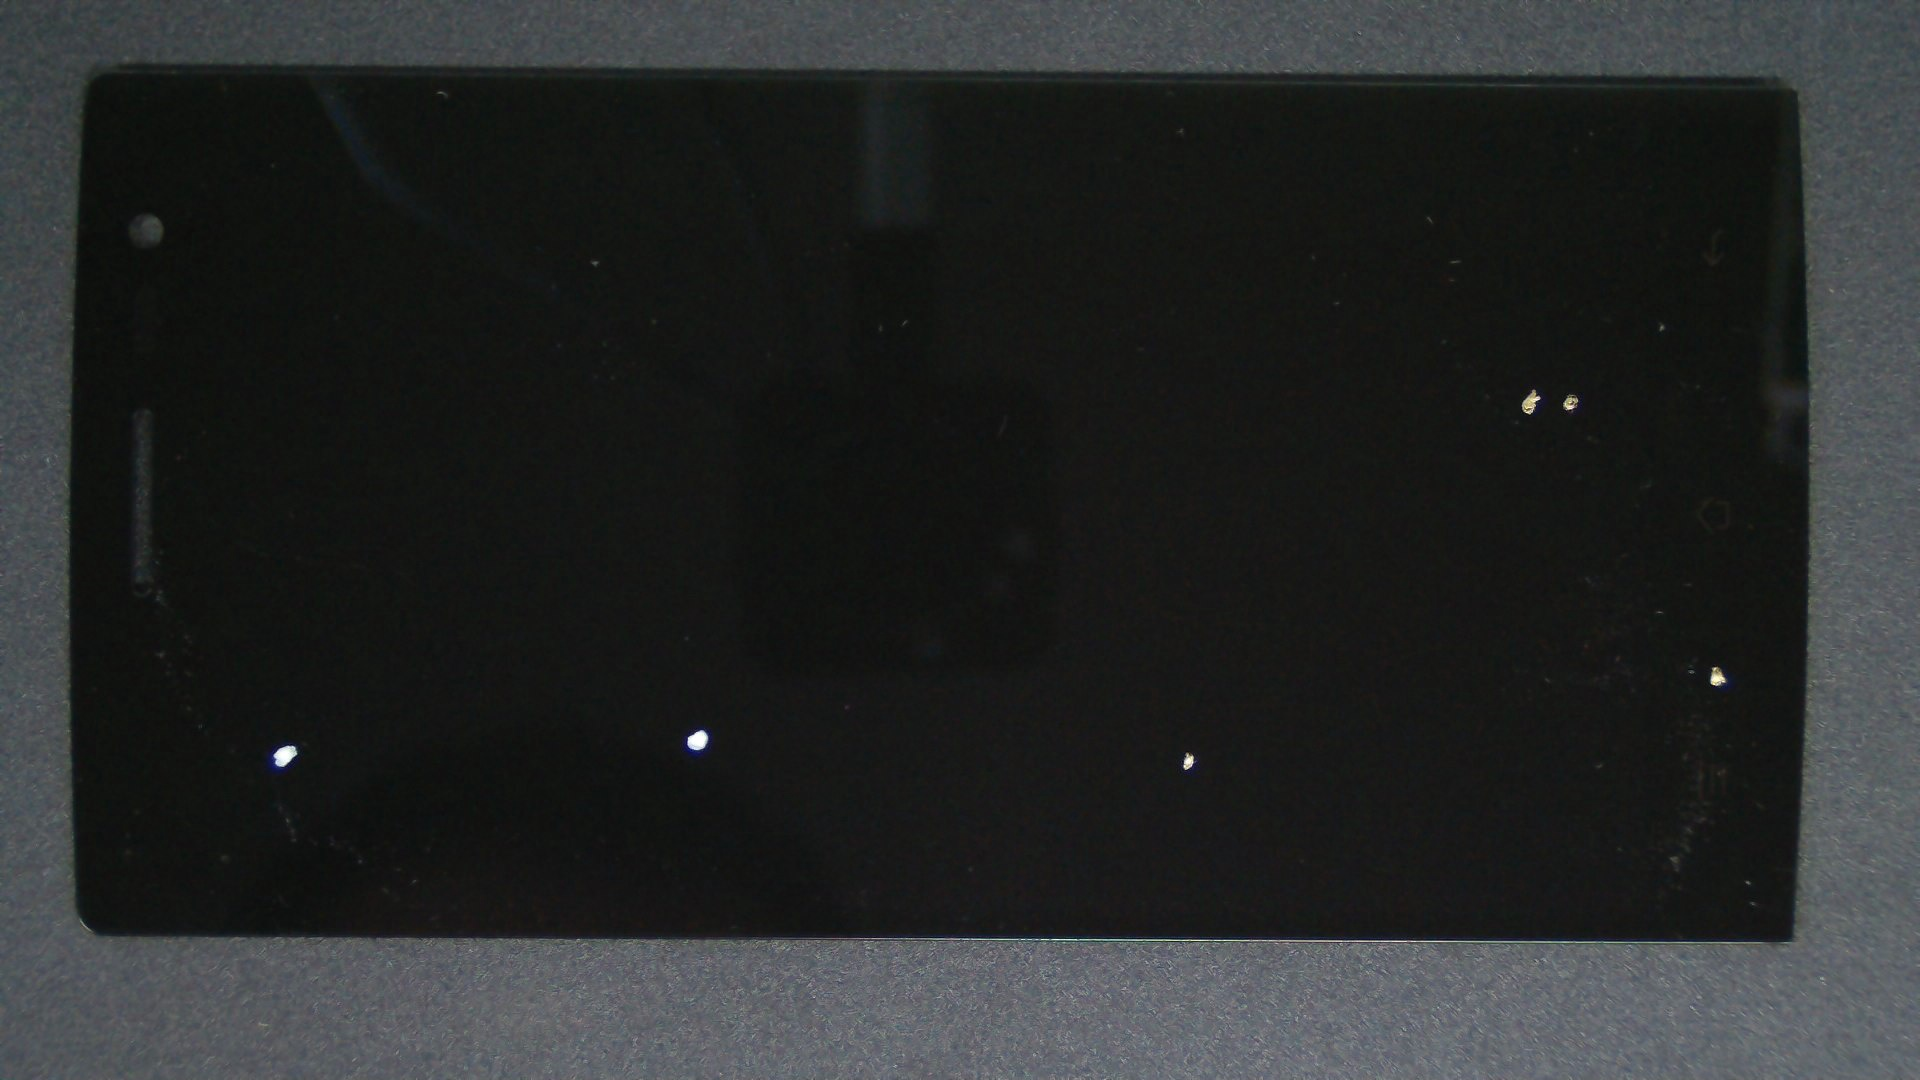oil: (593, 375, 1778, 1080), (857, 331, 1920, 998), (349, 364, 1047, 1080), (785, 195, 1920, 591), (767, 194, 1920, 583), (145, 372, 433, 1080)
